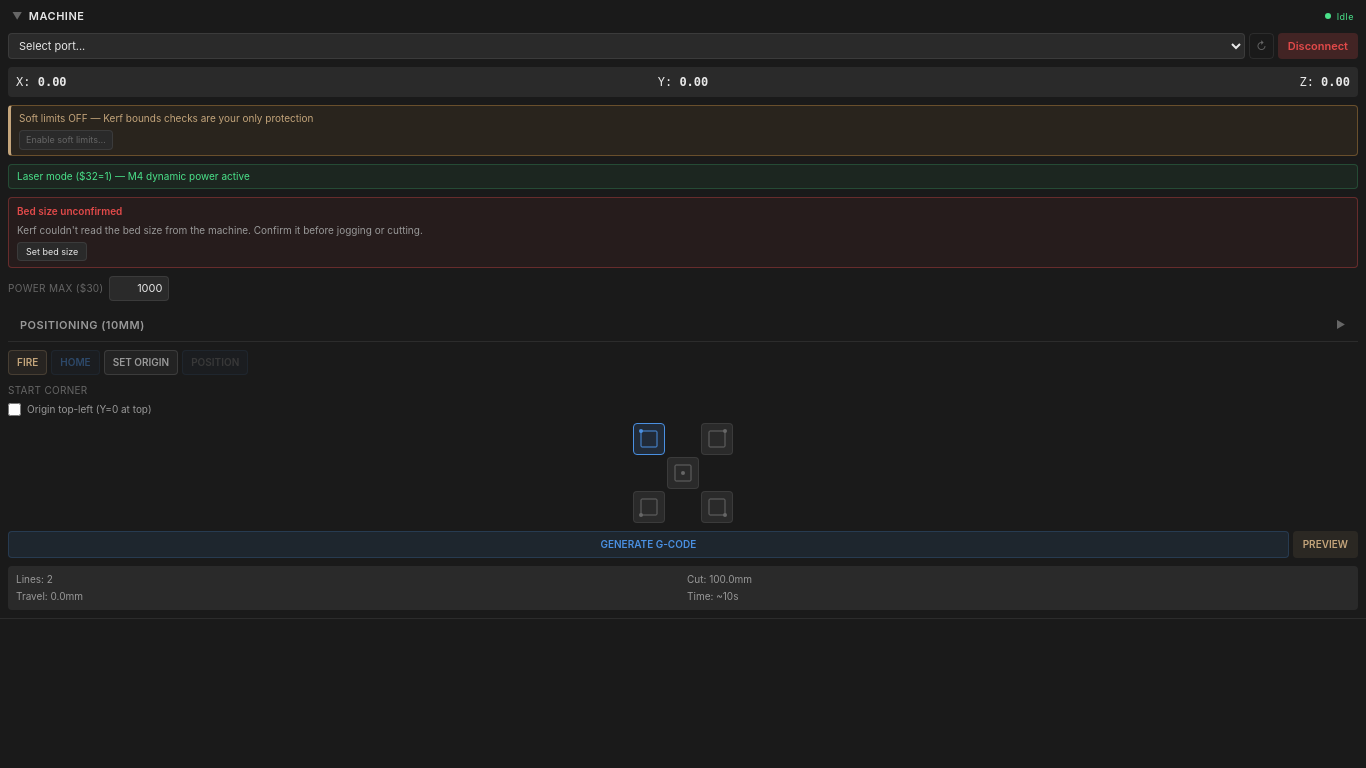
Test: S3 — MachinePanel and StatusBar › an unconfirmed bed disables all four jog buttons and says why, visibly
The image size is (1366, 768).
Click the text "Positioning (10mm)" at (82, 325), box [20, 316, 145, 333]
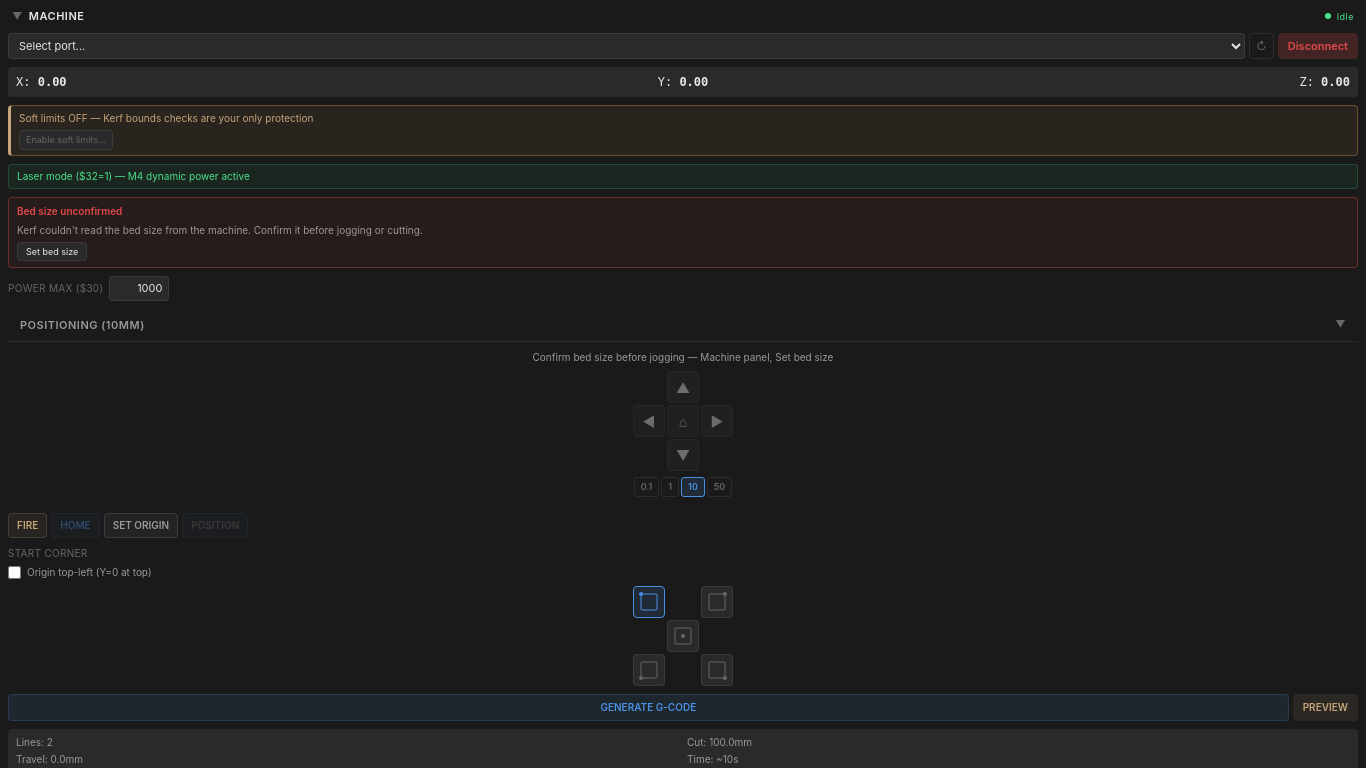
Now the button titled "Confirm bed size before jogging — Machine panel, Set bed size" is disabled, box [667, 371, 699, 403]
Now the text with test id "jog-blocked-note" reads "Confirm bed size before jogging — Machine panel, Set bed size", box [533, 351, 834, 363]
